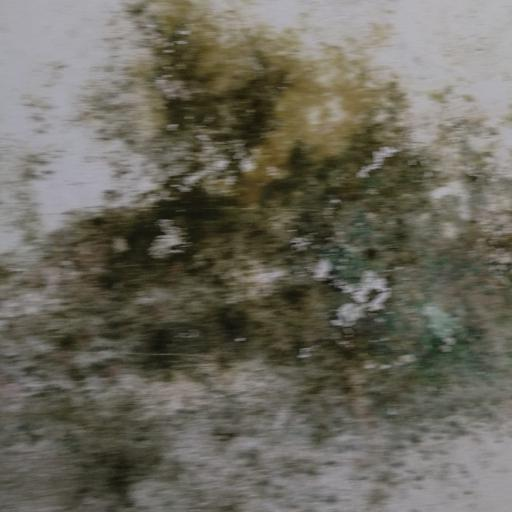algae: (17, 5, 512, 512)
